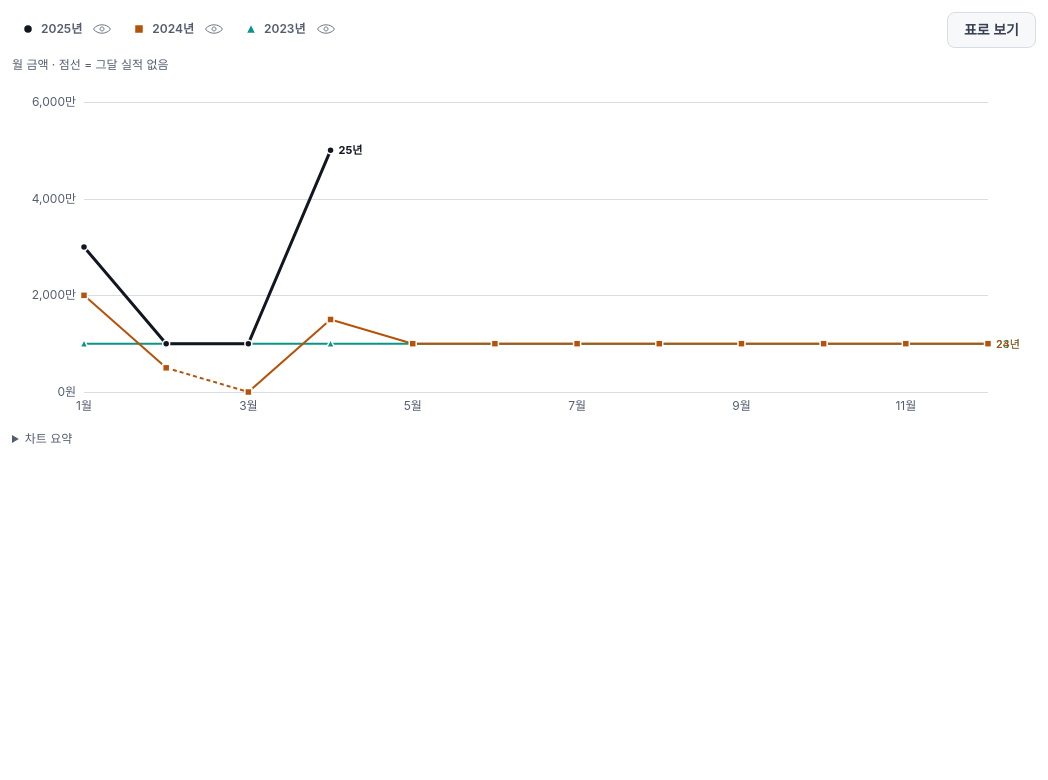
Test: YearlyLineChart › monthly 모드 — 월 금액을 그대로 (표도 같은 값)
Step 1. Click the button "표로 보기" → (991, 30), box [947, 12, 1036, 48]
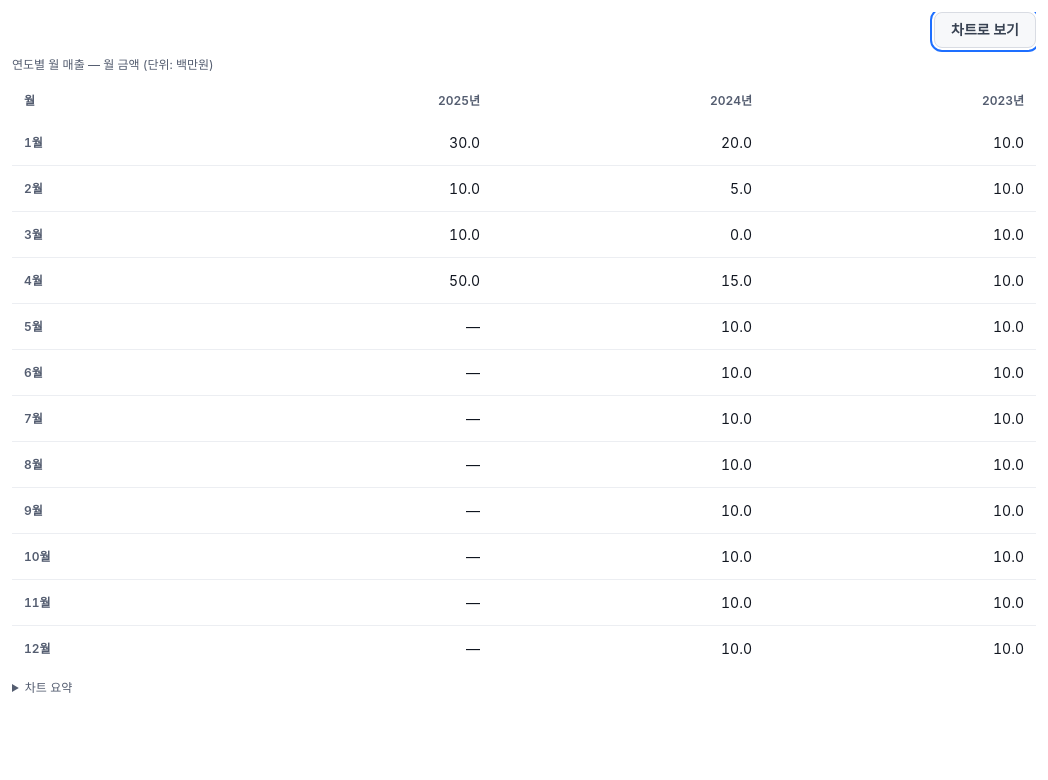
Result: the cells read "50.0", "15.0", "10.0", in this order at [220, 258, 492, 304]; [492, 258, 764, 304]; [764, 258, 1036, 304]
